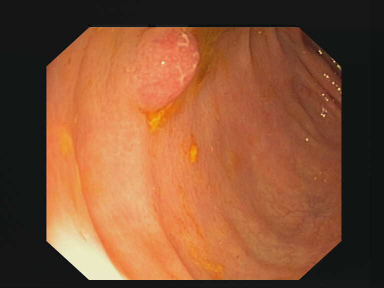polyp: (134, 28, 199, 114)
